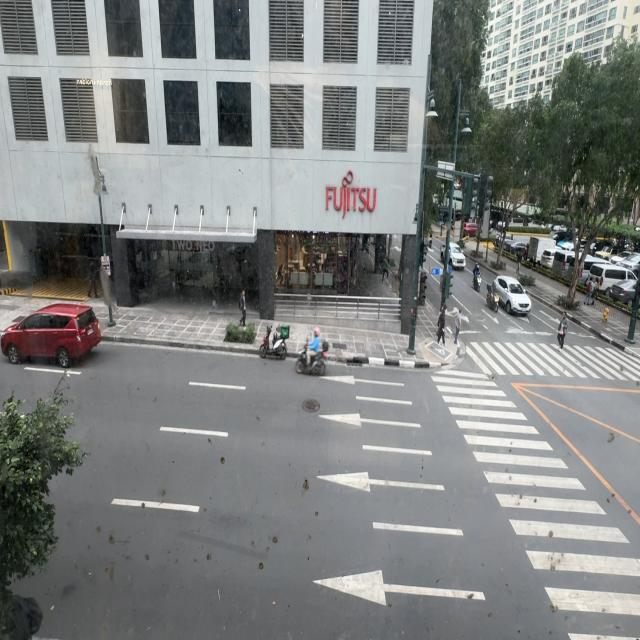crossing: (558, 312, 568, 351)
pedestrain: (88, 261, 100, 301), (436, 305, 446, 346), (239, 290, 246, 326)
waiting: (453, 306, 462, 346)
